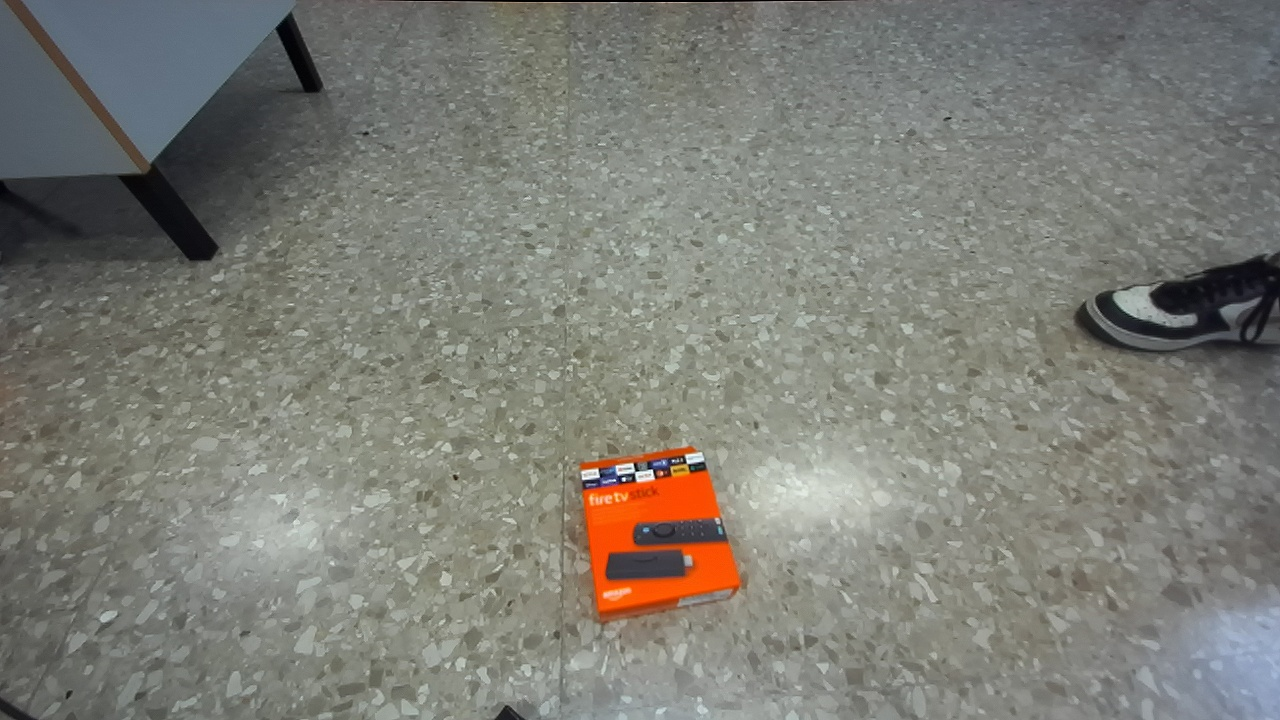caja_manguera: (579, 446, 739, 621)
